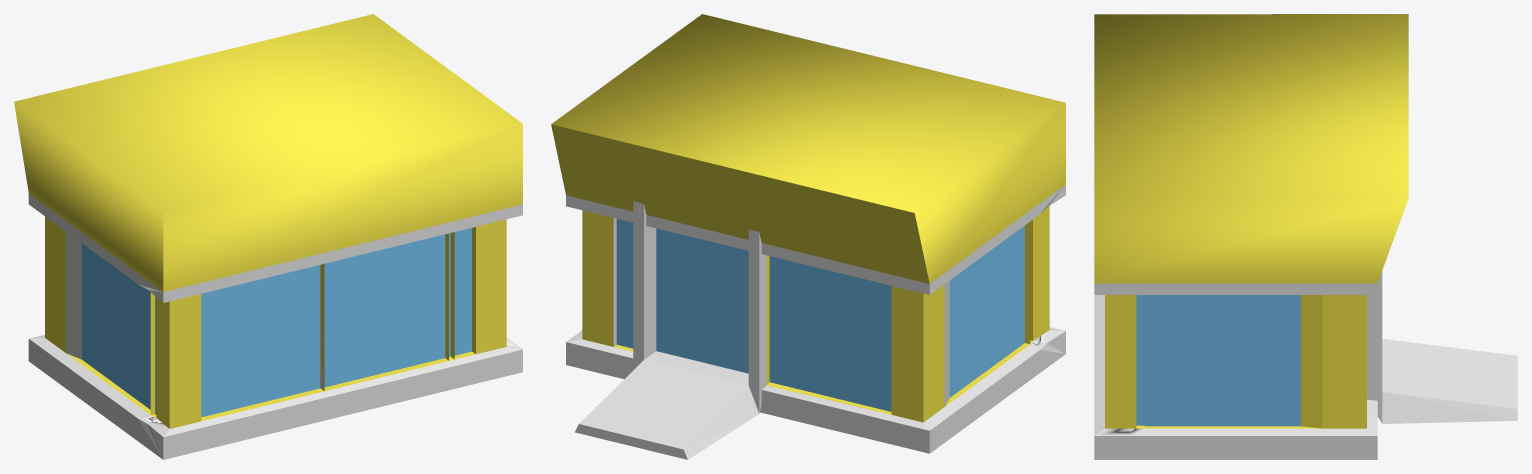
The model's file is Shop3x2x2Yellow.fbx.
3 views of the same model, side by side, from view 1: azimuth 30°, elevation 25°; view 2: azimuth 150°, elevation 25°; view 3: azimuth 270°, elevation 25° (orthographic). The views are drawn at different scales.
Visible parts, largest first — view 1: Shop.002; view 2: Shop.002; view 3: Shop.002.
Boxes of the visible parts, x1,y1,x2,y2 form: Shop.002: (14, 14, 522, 459); Shop.002: (551, 14, 1065, 459); Shop.002: (1094, 14, 1517, 459).
Size of the model in its own units: 3 by 1.98 by 2.91.
1 material, 1 textured.
